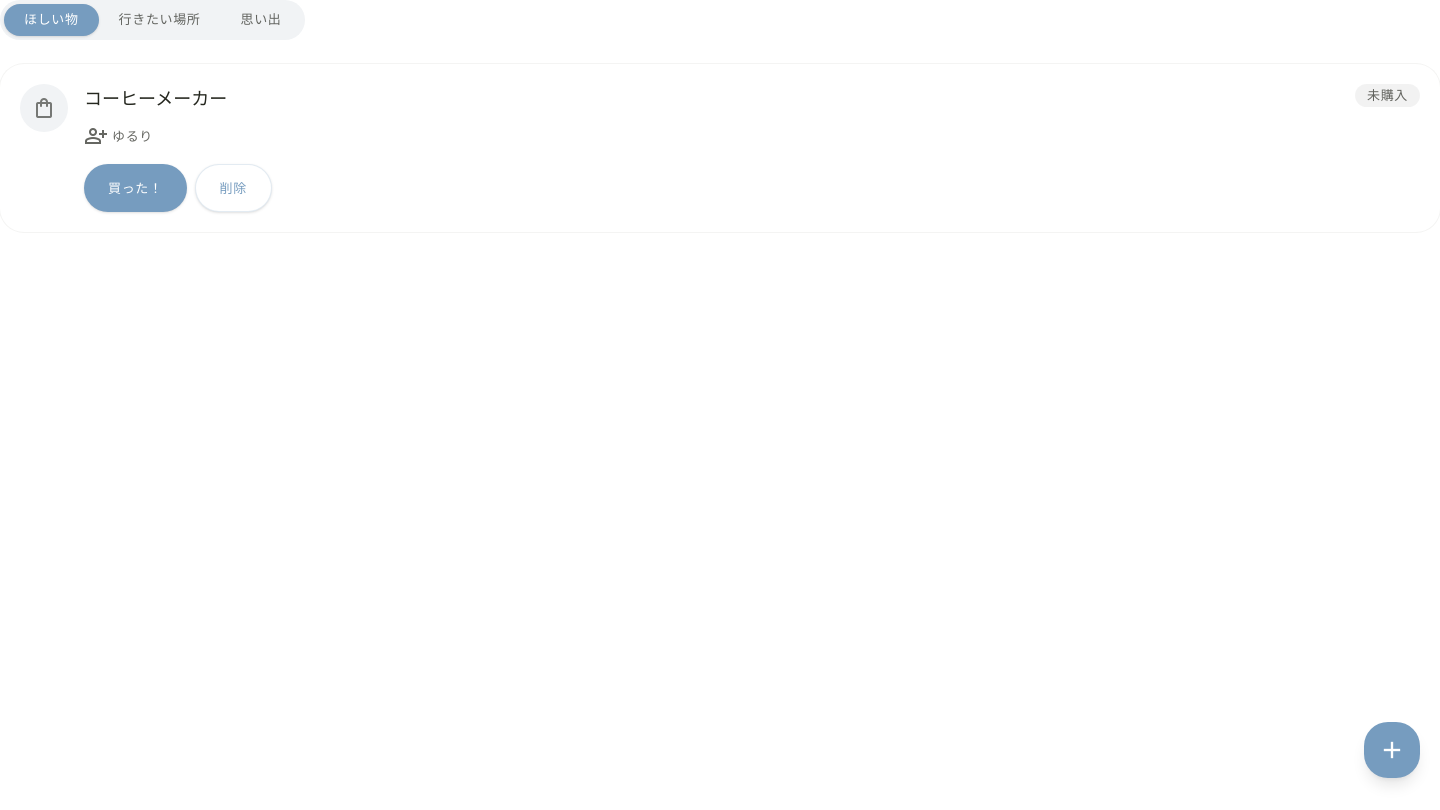
WishlistBoard 統合 › ステータス文言はジャンルで変わる
The width and height of the screenshot is (1440, 810).
Expected: the text "未購入" is shown, [1355,84,1420,107]
Click the radio button labelled "行きたい場所".
click(160, 20)  # box [99,4,220,36]
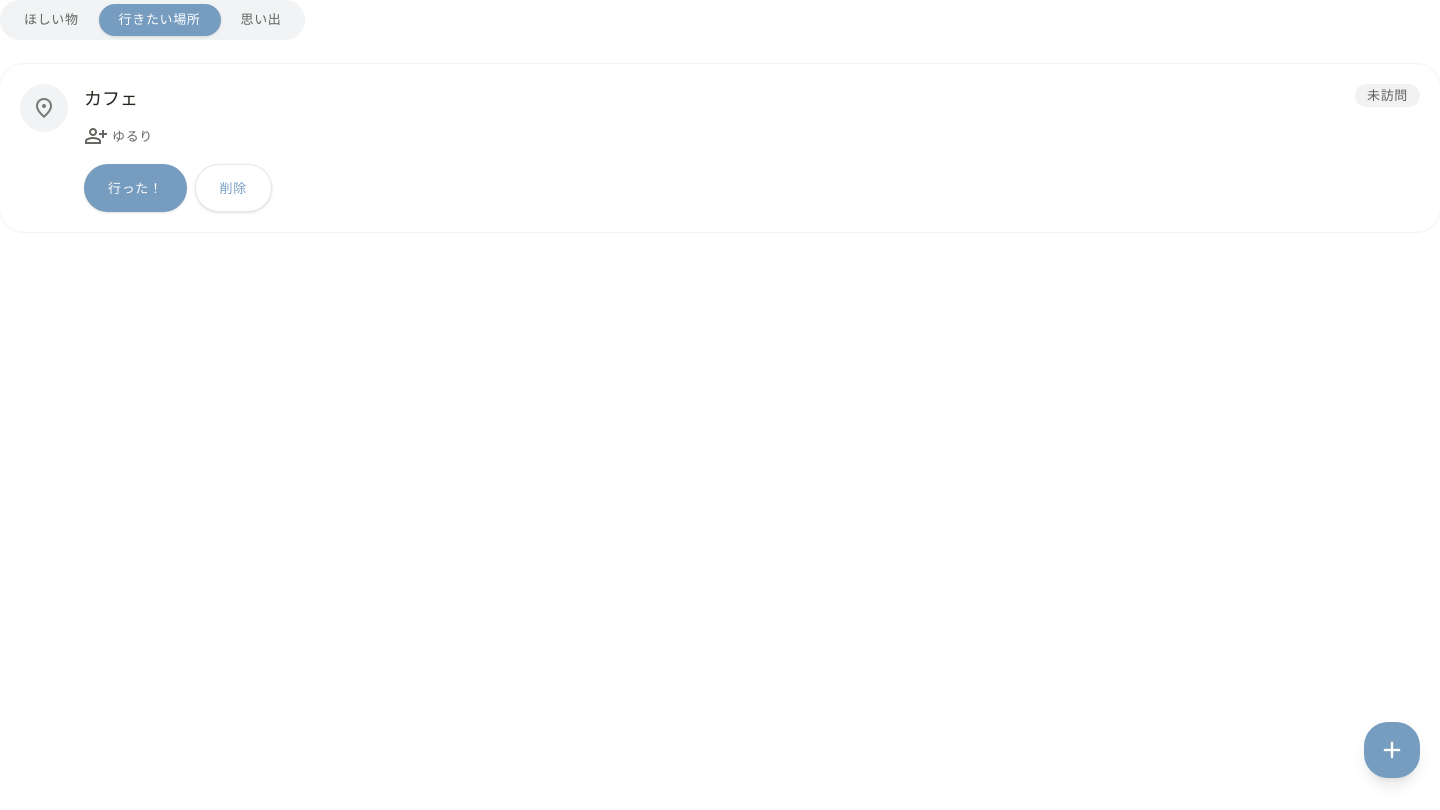
Expected: the text "未訪問" is shown, [1355,84,1420,107]
